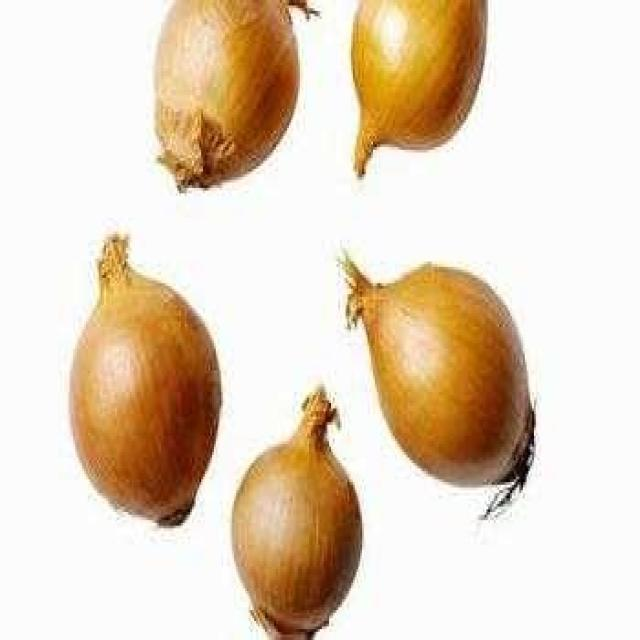onion: (331, 234, 549, 528), (71, 215, 234, 528), (221, 378, 369, 640), (154, 3, 304, 207), (347, 3, 494, 185)
